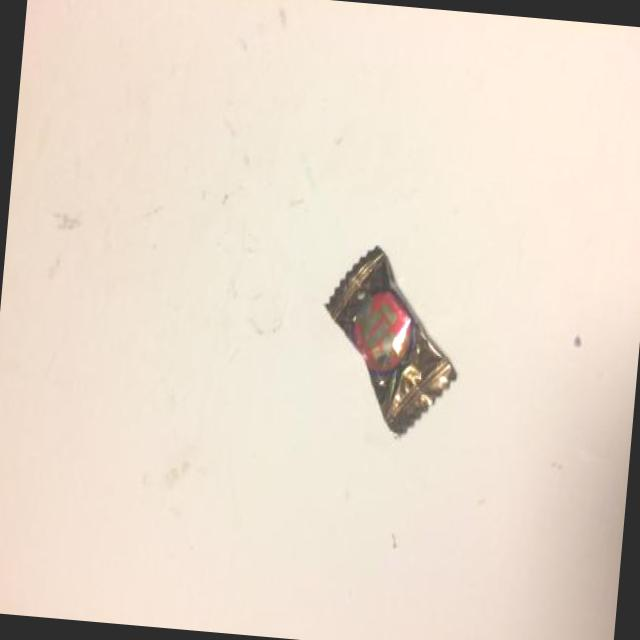Trash: (310, 235, 470, 443)
